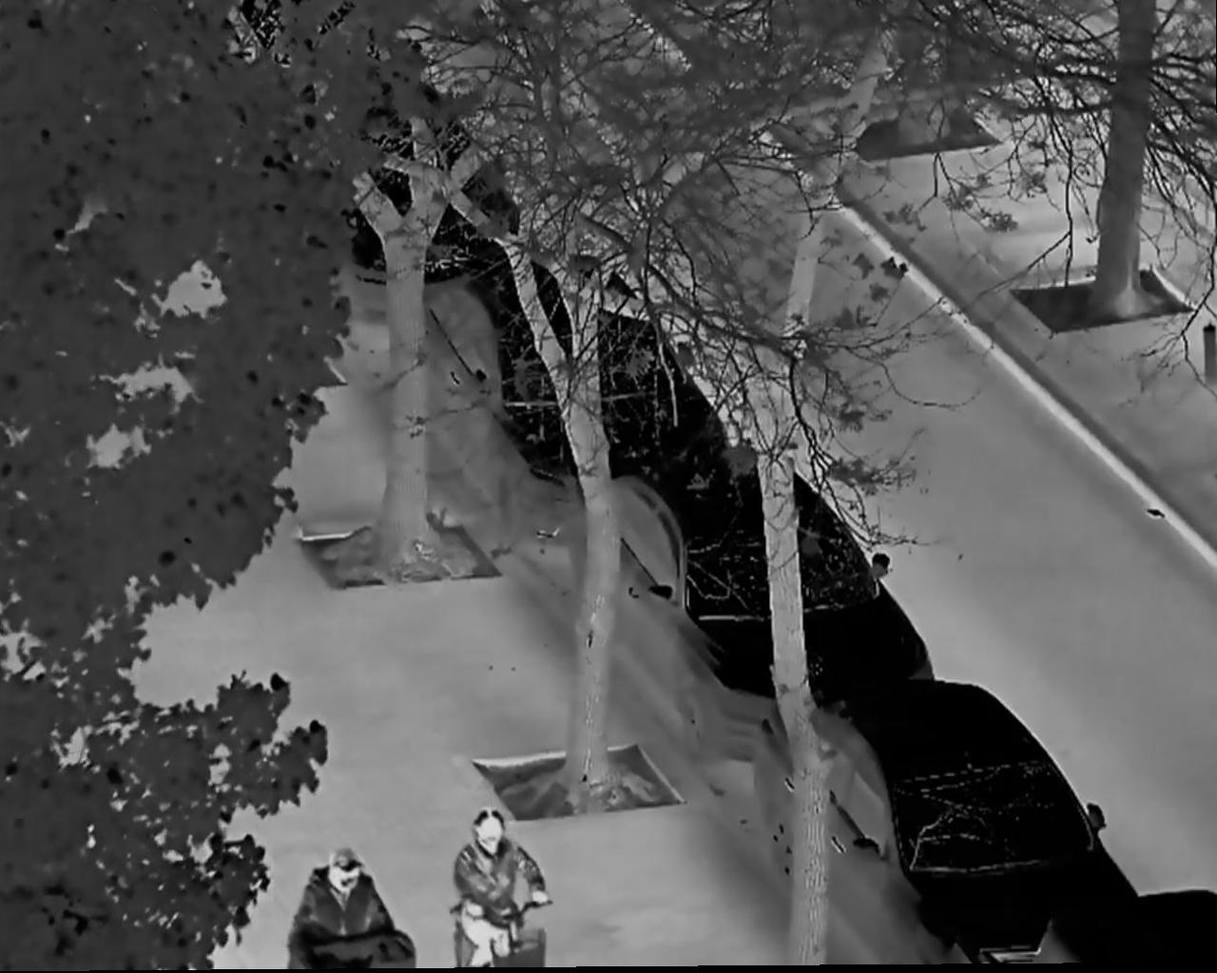person: (442, 811, 550, 973), (282, 851, 409, 970)
